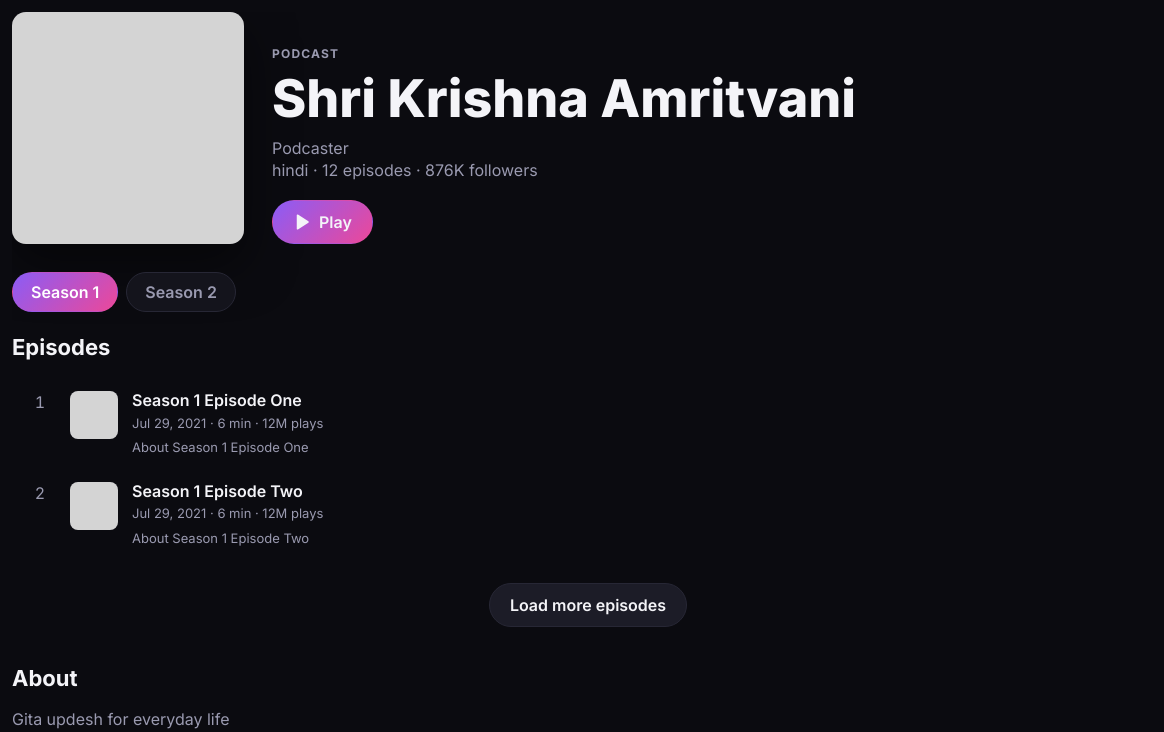
Test: PodcastPage › loads more episodes with the numeric show id, merges them and ignores duplicates
Check: the text "Season 1 Episode One" is shown, box [132, 390, 302, 410]
Check: the text "Season 1 Episode Three" is not shown
Click the button "Load more episodes" at (588, 605), box [489, 583, 687, 627]
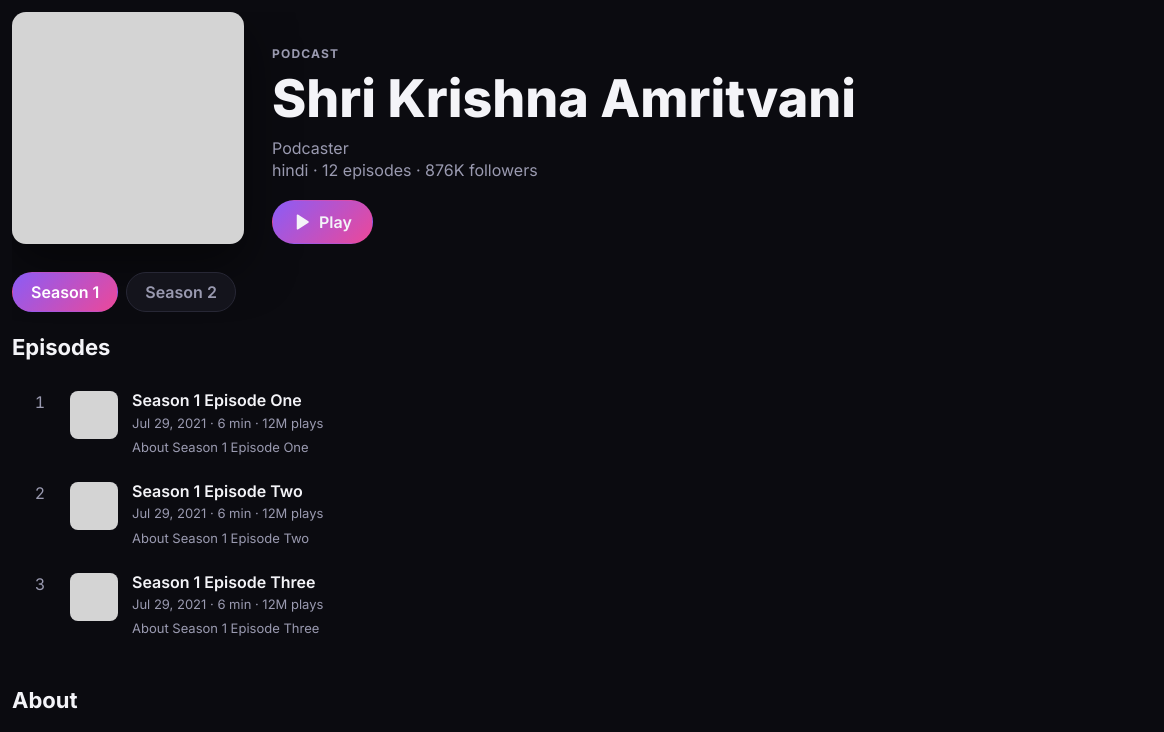
Check: the text "Season 1 Episode Three" is shown, box [132, 572, 316, 592]
Check: the text "Season 1 Episode One" is shown 3 times, box [132, 390, 302, 410]; [132, 481, 303, 501]; [132, 572, 316, 592]
Check: the button "Load more" is gone
